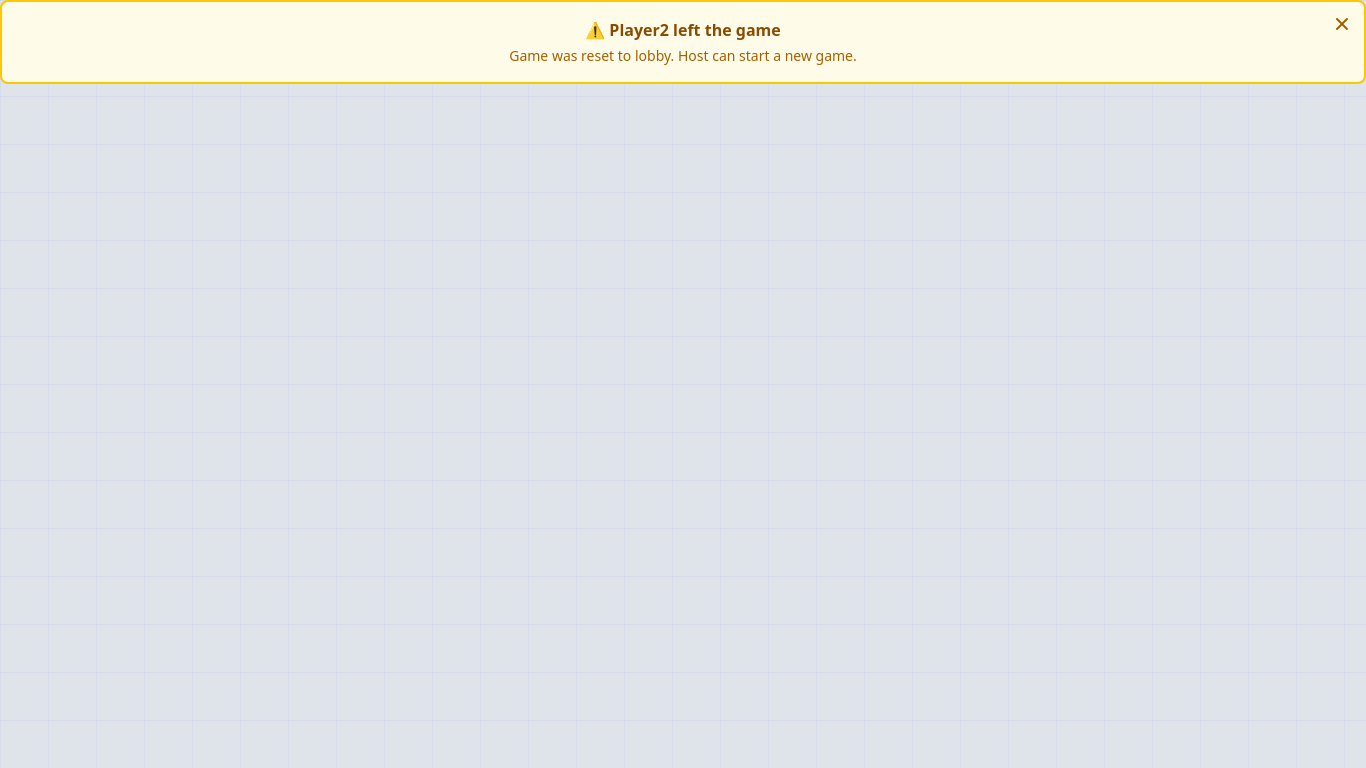
Test case: DismissibleLeaverMessage › hides the banner after dismiss
Click the button named "dismiss message" at (1342, 24), box [1328,10,1356,38]
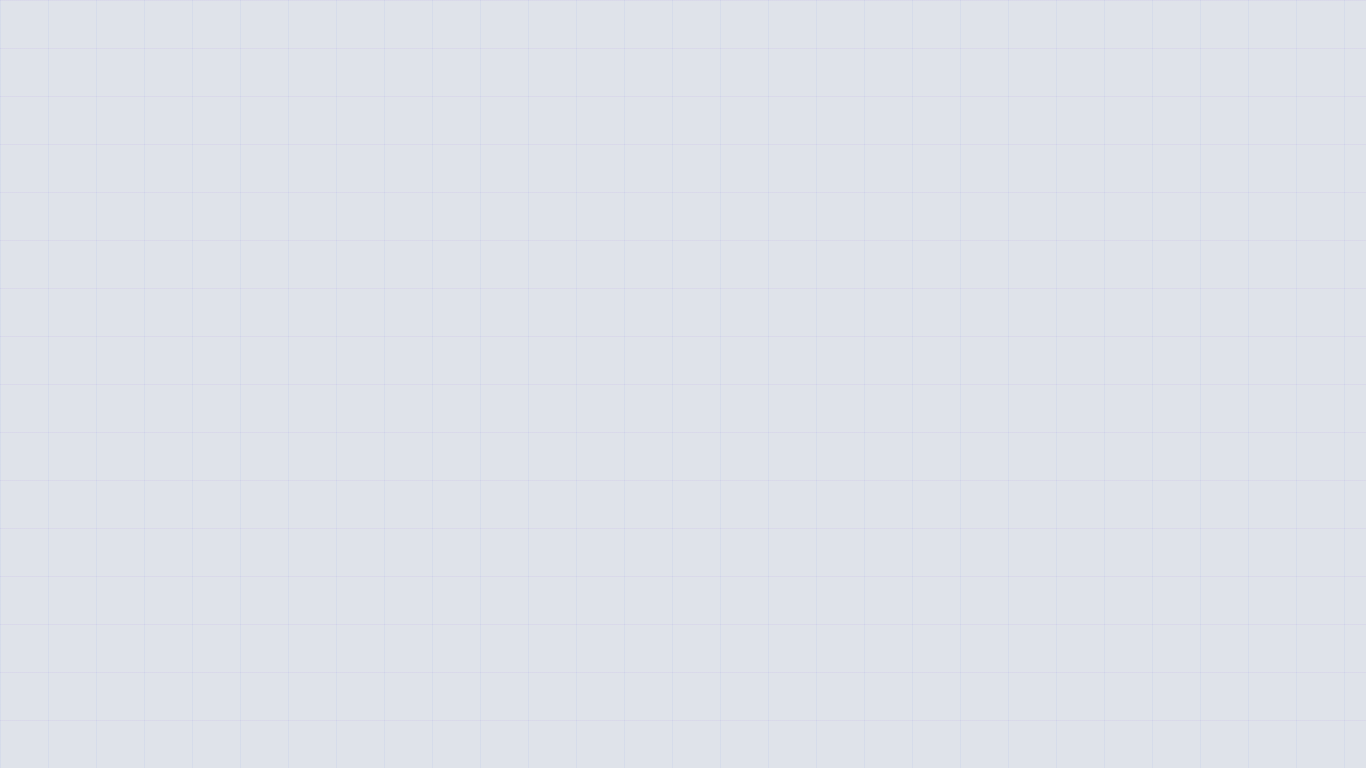
Expected: the text "Player2 left the game" is gone
